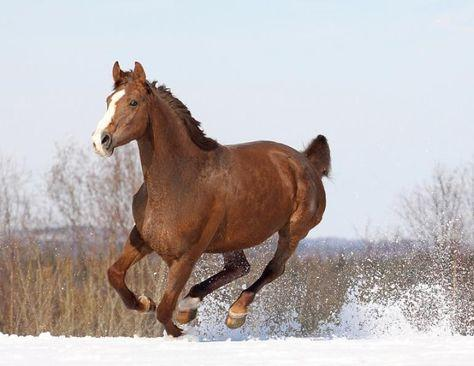horse: (91, 59, 331, 337)
